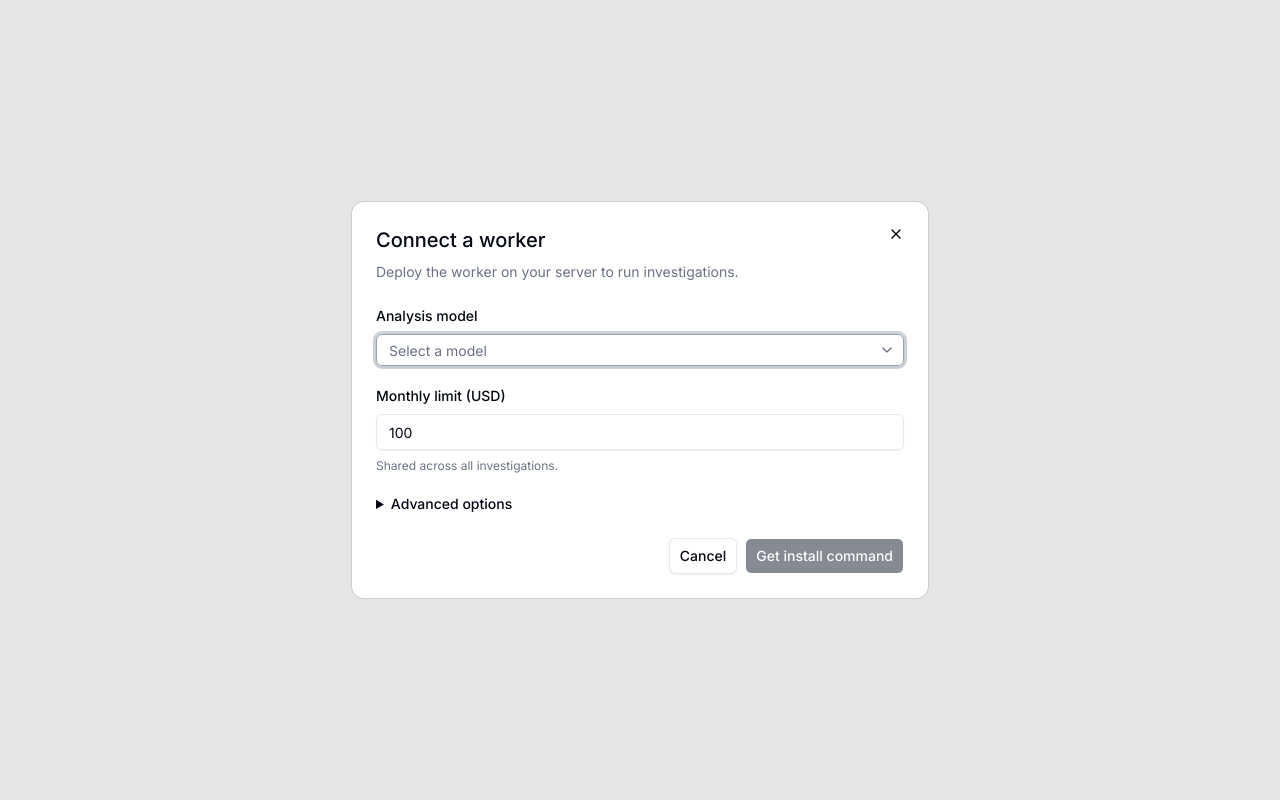
Test case: Worker setup › cleans up a newly created key when registration fails before retrying
The width and height of the screenshot is (1280, 800).
Check: the button "Get install command" is disabled, box [745,538,904,574]
Step 1. Click the dropdown labelled "Analysis model" → (626, 350), box [377,332,875,368]
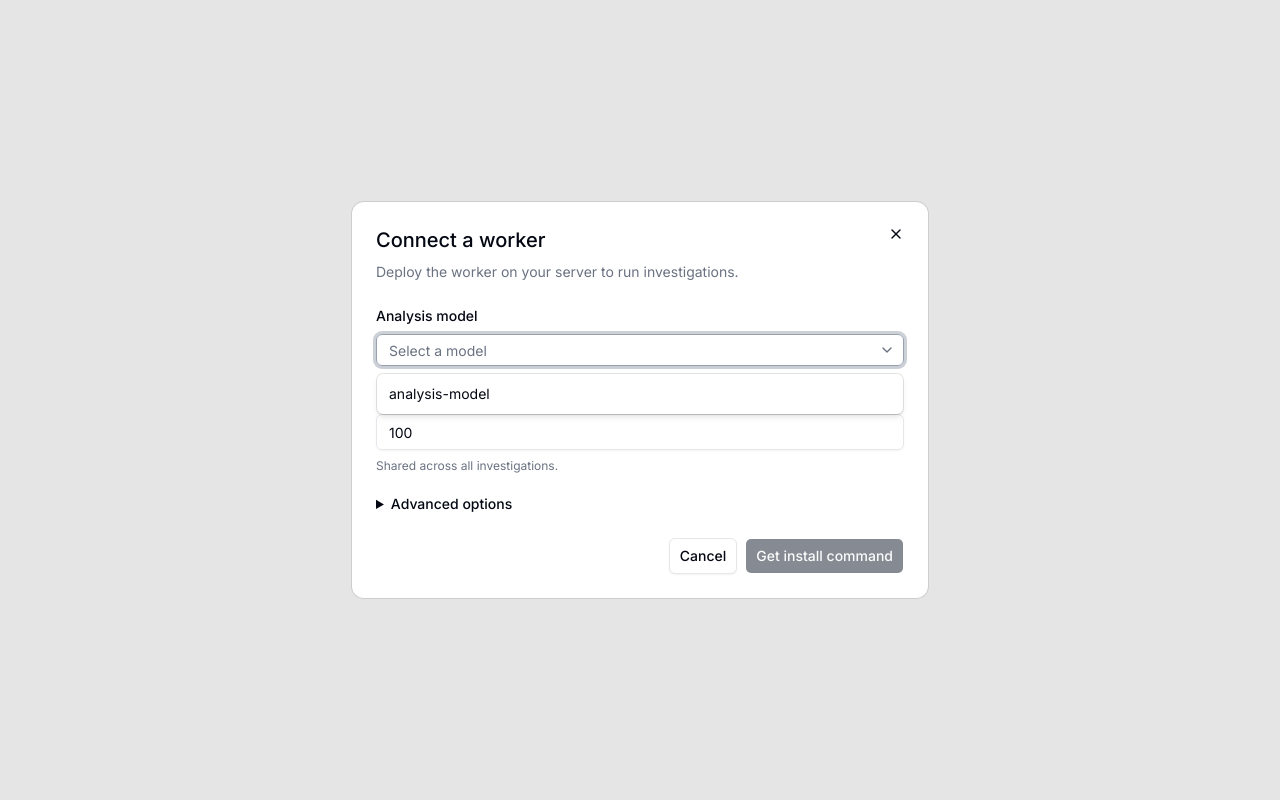
Step 2. Click the option "analysis-model" → (439, 394), box [389,385,490,402]
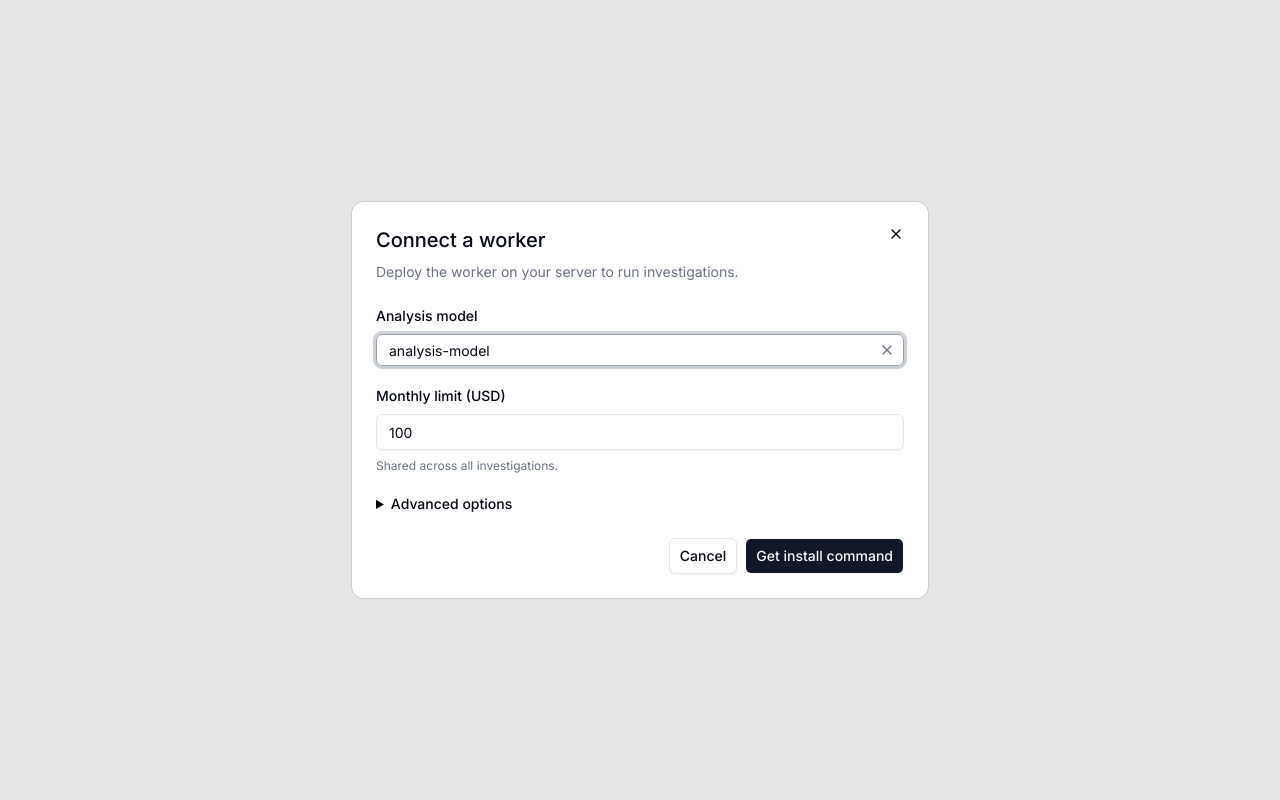
Step 3. Replace the text in the number field labelled "Monthly limit (USD)" with "12" → (640, 432), box [376,414,904,450]
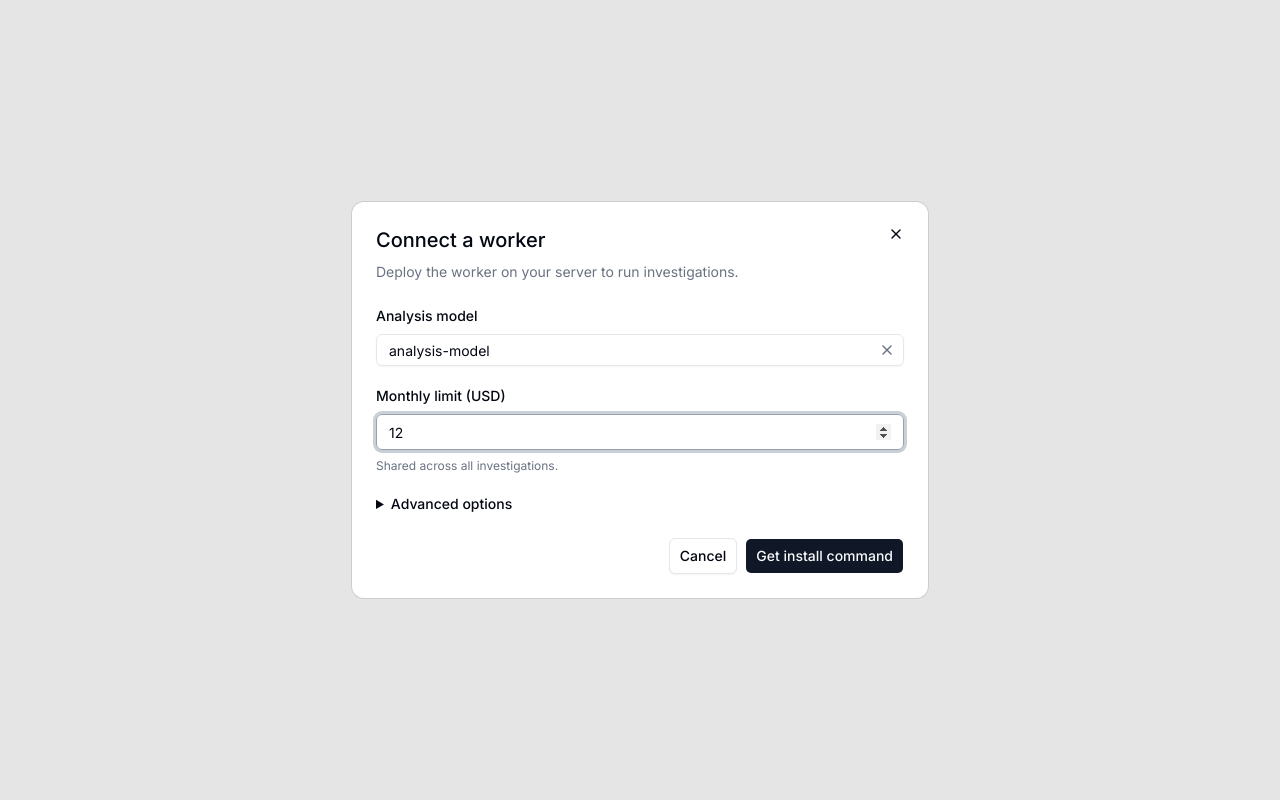
Step 4. Click the button "Get install command" → (825, 556), box [745,538,904,574]
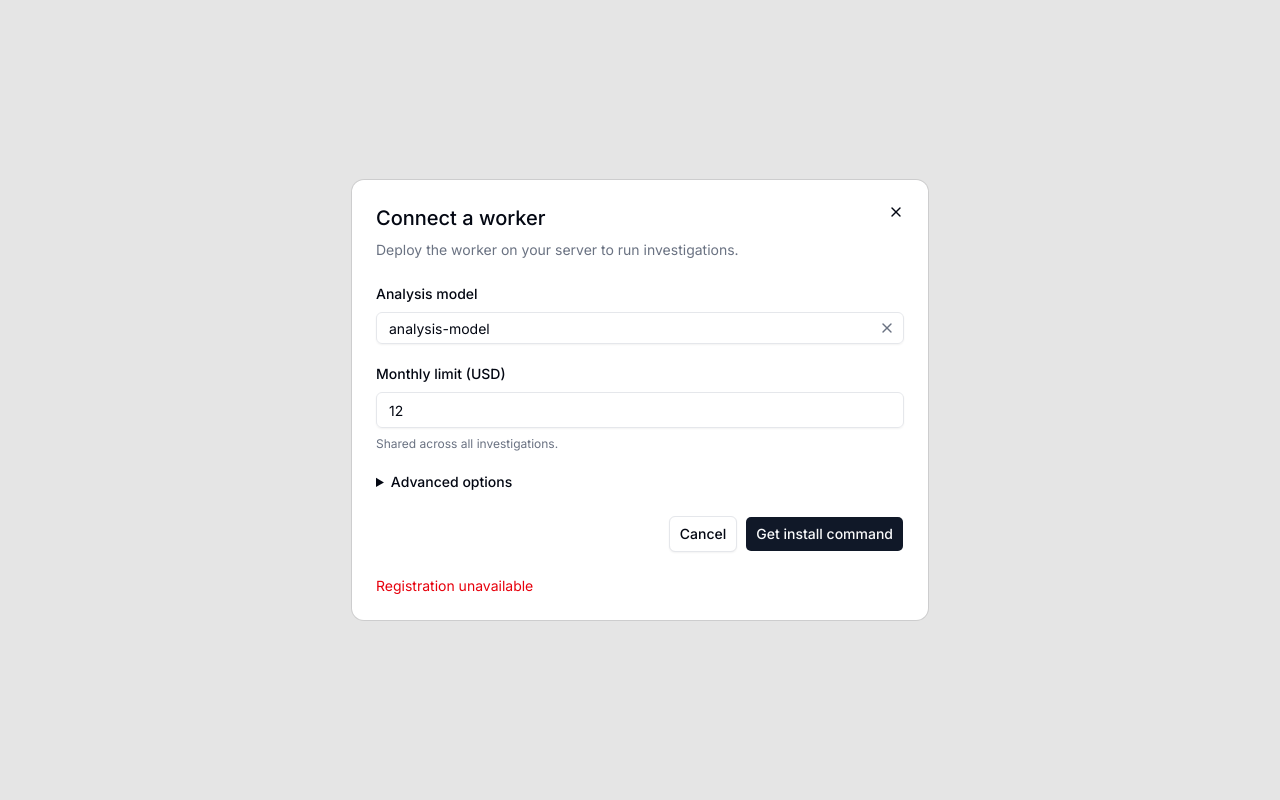
Check: the message reads "Registration unavailable", box [376,577,533,594]
Step 5. Click the button "Get install command" → (825, 534), box [745,516,904,552]
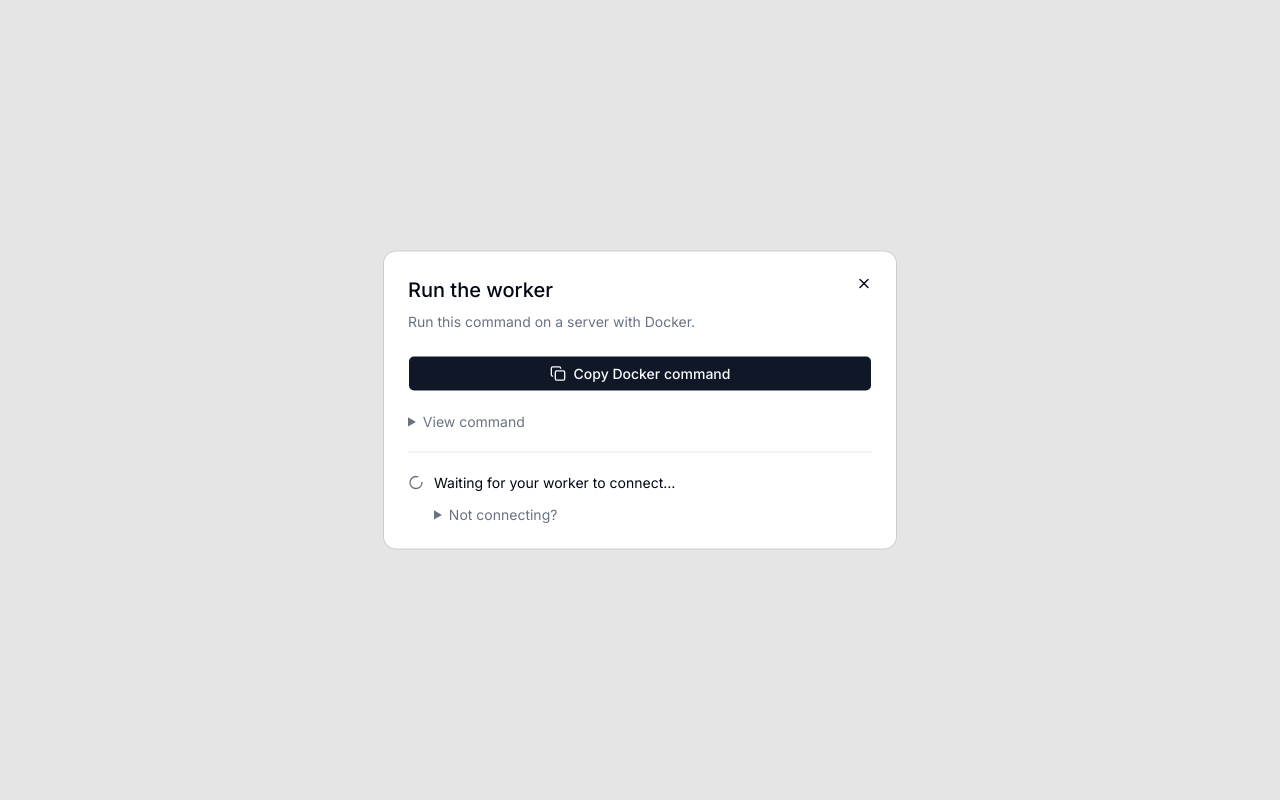
Check: the message shows "Waiting for your worker", box [434,474,675,490]
